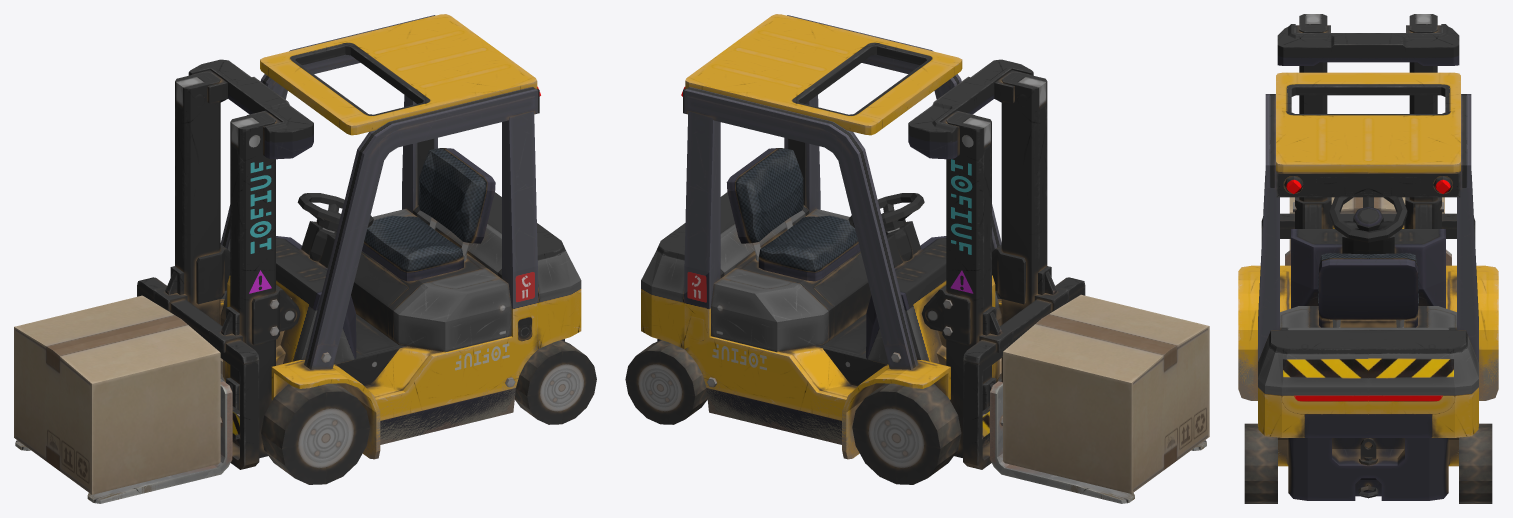
Rendered from WarehouseManager_03.obj.
3 views of the same model, side by side, from view 1: azimuth 30°, elevation 25°; view 2: azimuth 150°, elevation 25°; view 3: azimuth 270°, elevation 25° (orthographic).
Bounding box in the file's own units: 2.98 × 2 × 1.37.
Materials: 6 (6 with a texture image).
